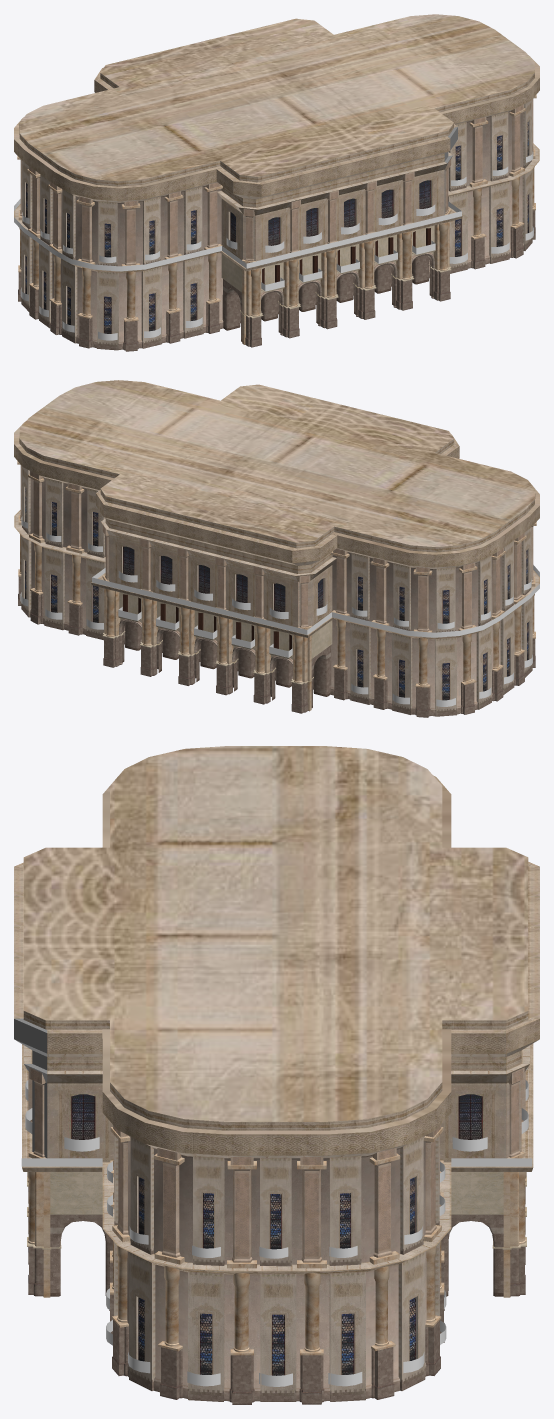
Rendered from Mansion.fbx.
3 views of the same model, one above another, from view 1: azimuth 30°, elevation 25°; view 2: azimuth 150°, elevation 25°; view 3: azimuth 270°, elevation 25° (orthographic). The views are drawn at different scales.
Parts seen in each view (by area): view 1: Combined_MansionRoot_Mesh, Combined_MansionRoot_Mesh_3, Combined_MansionRoot_Mesh_6, Combined_MansionRoot_Mesh_2, Combined_MansionRoot_Mesh_5, Combined_MansionRoot_Mesh_7, Combined_MansionRoot_Mesh_1, Combined_MansionRoot_Mesh_12, Combined_MansionRoot_Mesh_9, Combined_MansionRoot_Mesh_8, Combined_MansionRoot_Mesh_4; view 2: Combined_MansionRoot_Mesh, Combined_MansionRoot_Mesh_3, Combined_MansionRoot_Mesh_6, Combined_MansionRoot_Mesh_2, Combined_MansionRoot_Mesh_5, Combined_MansionRoot_Mesh_7, Combined_MansionRoot_Mesh_1, Combined_MansionRoot_Mesh_12, Combined_MansionRoot_Mesh_4, Combined_MansionRoot_Mesh_8; view 3: Combined_MansionRoot_Mesh, Combined_MansionRoot_Mesh_3, Combined_MansionRoot_Mesh_6, Combined_MansionRoot_Mesh_2, Combined_MansionRoot_Mesh_5, Combined_MansionRoot_Mesh_7, Combined_MansionRoot_Mesh_1, Combined_MansionRoot_Mesh_4, Combined_MansionRoot_Mesh_12, Combined_MansionRoot_Mesh_10.
Boxes of the visible parts, <box> form: Combined_MansionRoot_Mesh: <box>14,14,539,273</box>; Combined_MansionRoot_Mesh_3: <box>21,67,532,350</box>; Combined_MansionRoot_Mesh_6: <box>32,111,523,349</box>; Combined_MansionRoot_Mesh_2: <box>17,94,536,344</box>; Combined_MansionRoot_Mesh_5: <box>20,98,533,265</box>; Combined_MansionRoot_Mesh_7: <box>18,210,535,351</box>; Combined_MansionRoot_Mesh_1: <box>14,151,533,340</box>; Combined_MansionRoot_Mesh_12: <box>222,255,431,341</box>; Combined_MansionRoot_Mesh_9: <box>261,225,434,293</box>; Combined_MansionRoot_Mesh_8: <box>261,228,434,305</box>; Combined_MansionRoot_Mesh_4: <box>221,250,451,318</box>; Combined_MansionRoot_Mesh: <box>14,380,539,639</box>; Combined_MansionRoot_Mesh_3: <box>21,434,532,716</box>; Combined_MansionRoot_Mesh_6: <box>30,477,521,716</box>; Combined_MansionRoot_Mesh_2: <box>17,461,536,711</box>; Combined_MansionRoot_Mesh_5: <box>20,464,533,631</box>; Combined_MansionRoot_Mesh_7: <box>18,576,535,717</box>; Combined_MansionRoot_Mesh_1: <box>20,516,539,706</box>; Combined_MansionRoot_Mesh_12: <box>122,621,331,707</box>; Combined_MansionRoot_Mesh_4: <box>102,592,332,684</box>; Combined_MansionRoot_Mesh_8: <box>119,594,292,671</box>; Combined_MansionRoot_Mesh: <box>22,746,533,1274</box>; Combined_MansionRoot_Mesh_3: <box>14,862,539,1401</box>; Combined_MansionRoot_Mesh_6: <box>127,1136,426,1401</box>; Combined_MansionRoot_Mesh_2: <box>25,1067,528,1355</box>; Combined_MansionRoot_Mesh_5: <box>28,1067,525,1262</box>; Combined_MansionRoot_Mesh_7: <box>28,1187,525,1404</box>; Combined_MansionRoot_Mesh_1: <box>21,1068,532,1386</box>; Combined_MansionRoot_Mesh_4: <box>27,1172,526,1249</box>; Combined_MansionRoot_Mesh_12: <box>50,1215,503,1296</box>; Combined_MansionRoot_Mesh_10: <box>14,1018,47,1157</box>.
Size of the model in its own units: 5738 by 1969 by 3331.
